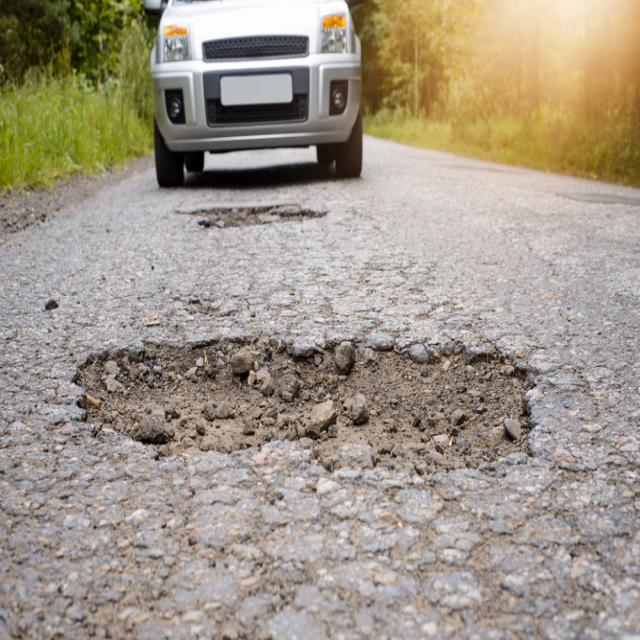Pothole: (70, 334, 535, 485)
